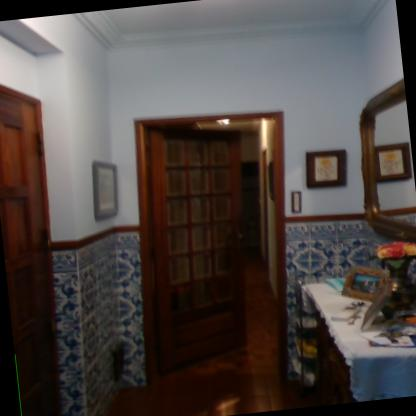semi: (120, 98, 312, 400)
